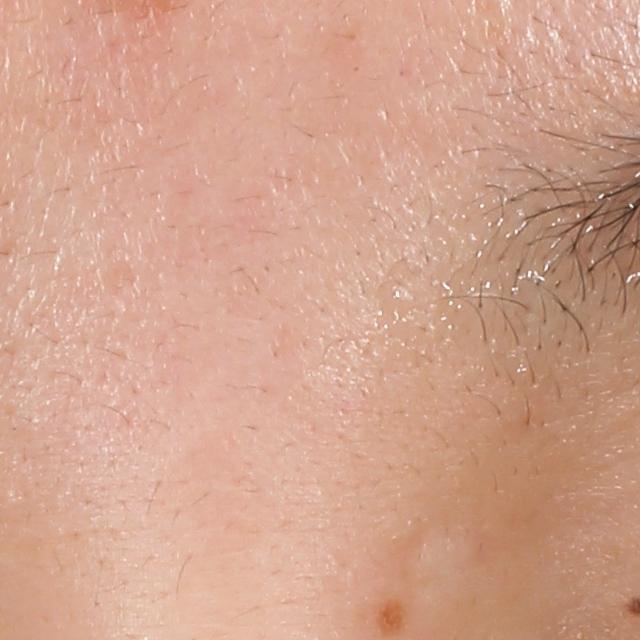atrophic_scar: (97, 259, 149, 310)
